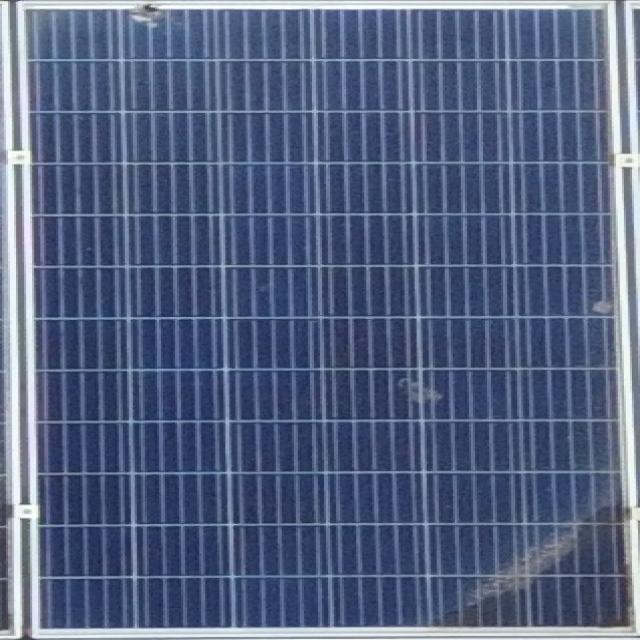Dust: (400, 499, 636, 635)
bird-droppings: (388, 373, 448, 408), (120, 2, 190, 28), (588, 288, 614, 318)
